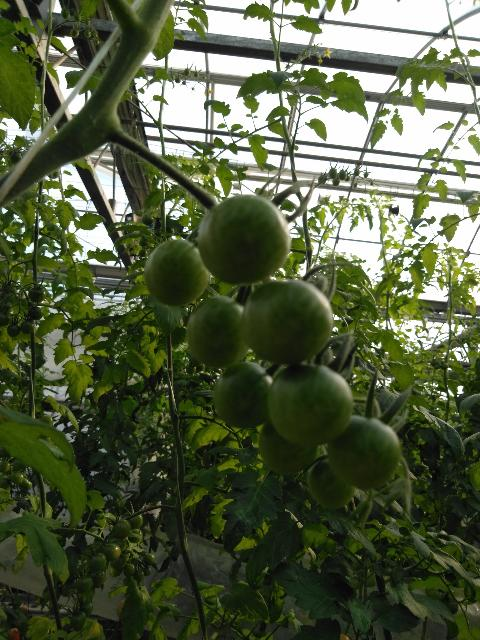l_green: (198, 194, 292, 286), (240, 278, 332, 365), (268, 362, 355, 448), (328, 415, 401, 490), (142, 238, 212, 307), (186, 296, 249, 369), (213, 362, 273, 429), (258, 417, 320, 476), (307, 452, 355, 511), (112, 520, 131, 540), (70, 611, 86, 633), (89, 552, 107, 571), (27, 286, 45, 304), (103, 543, 121, 561), (76, 576, 93, 593), (127, 513, 143, 529), (20, 319, 35, 334), (28, 307, 44, 321), (10, 471, 24, 485), (128, 529, 142, 543), (141, 212, 154, 226), (19, 477, 32, 491), (123, 563, 136, 577), (7, 324, 20, 337), (143, 553, 156, 566), (0, 460, 10, 473)
